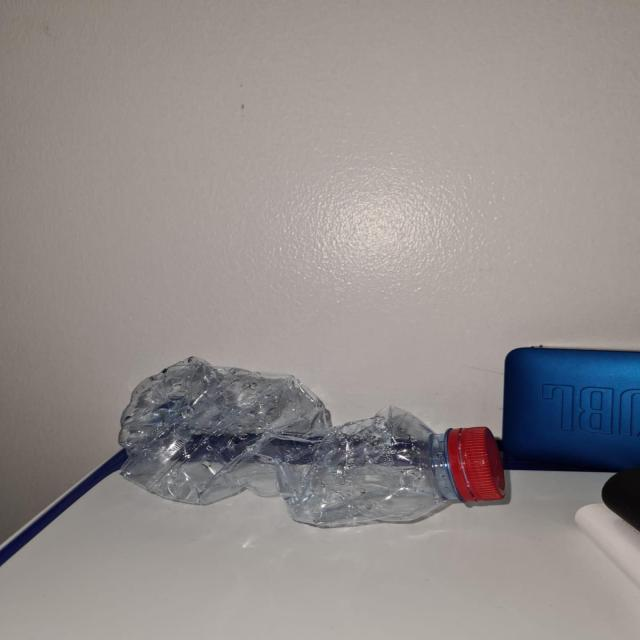bottle: (107, 343, 510, 539)
